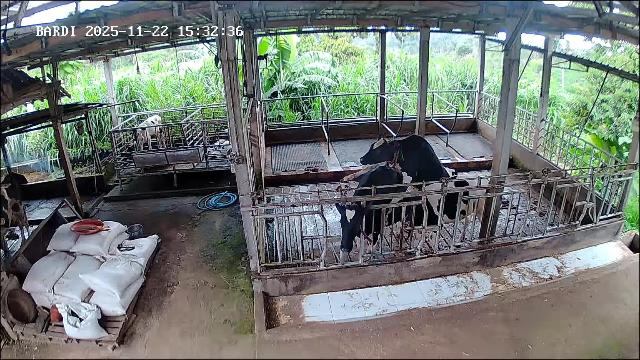mounting: (339, 135, 457, 183)
